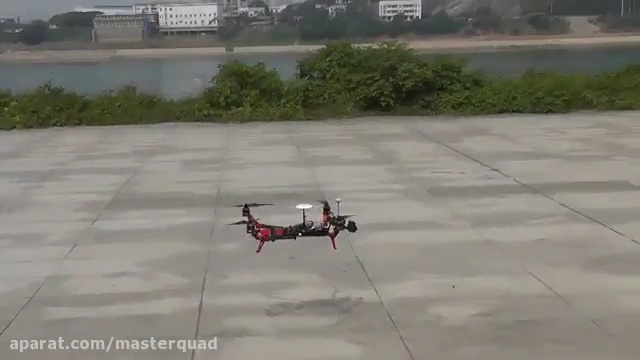drone_other: (220, 195, 362, 255)
